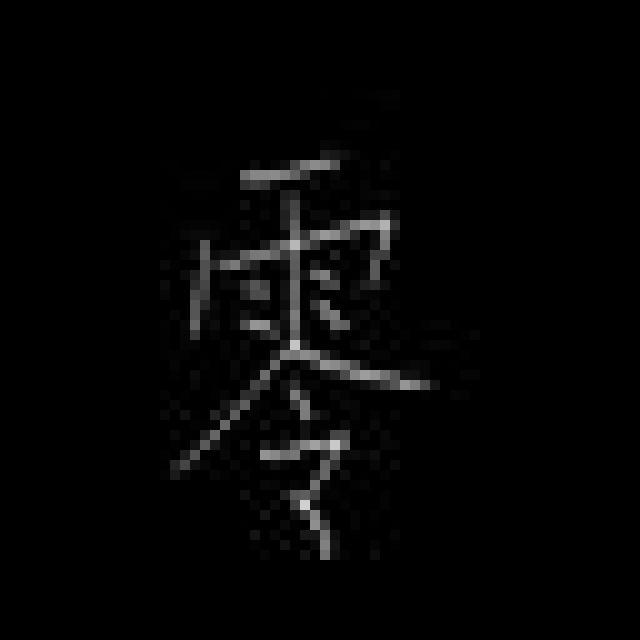0 -zero-: (163, 145, 432, 561)
